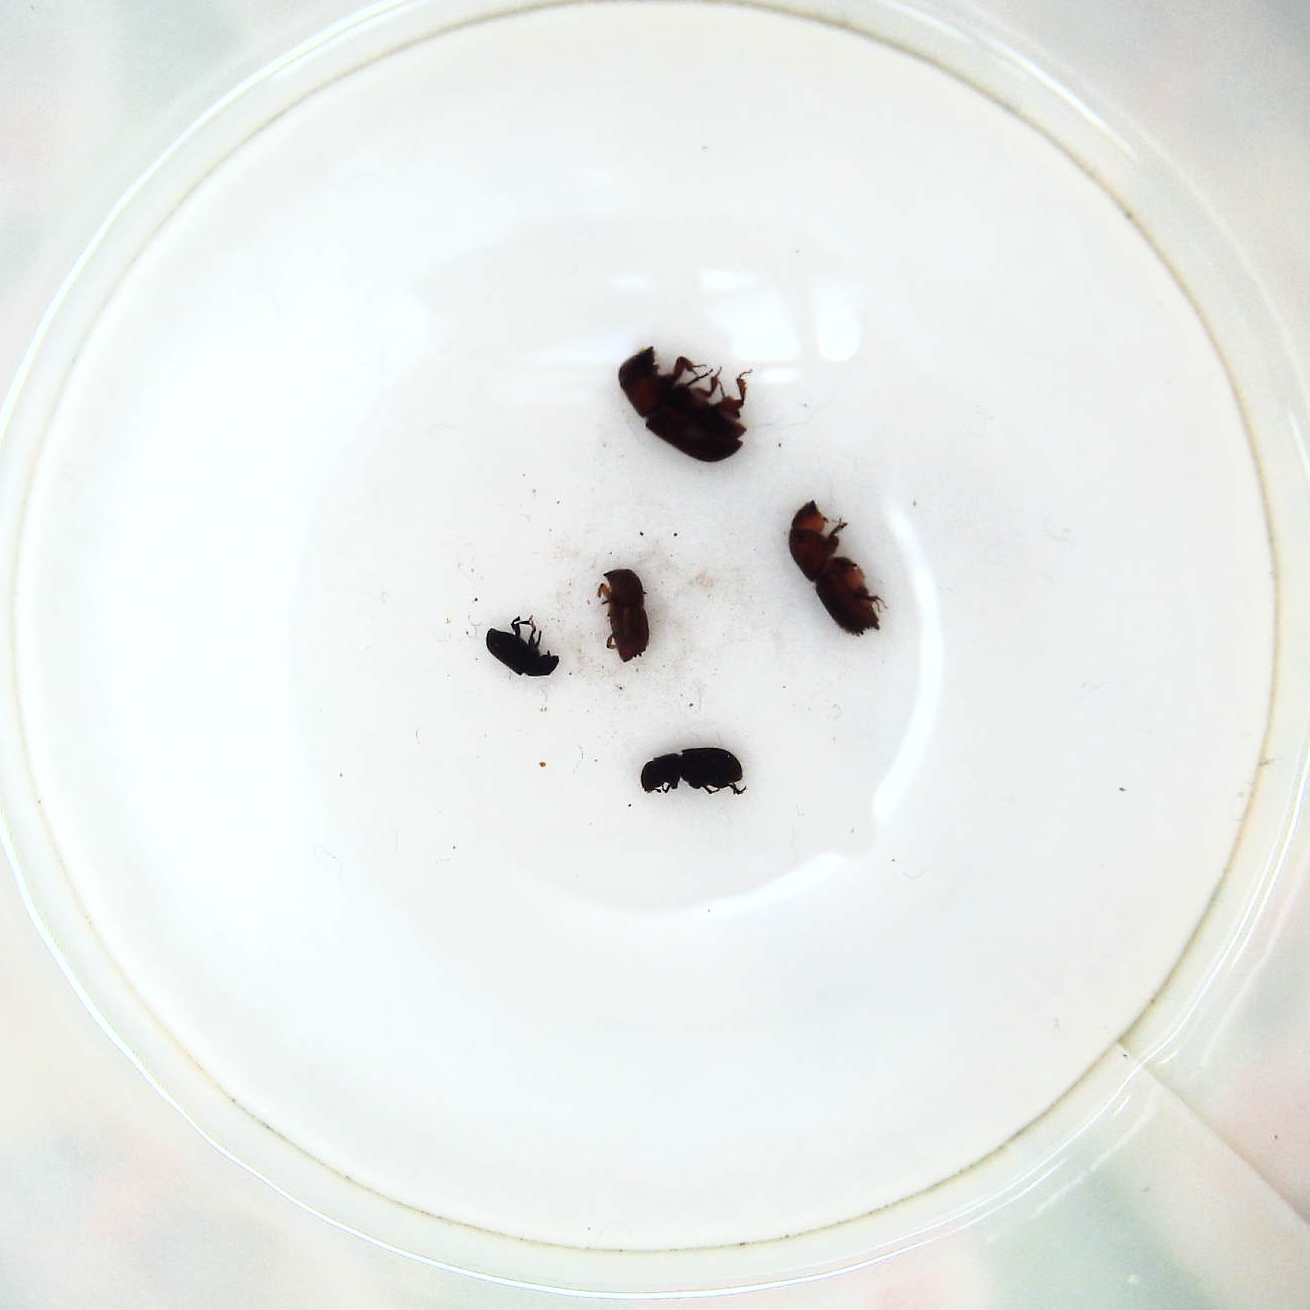Boerner: (785, 501, 888, 639)
Leconte: (615, 349, 755, 468)
armandi: (632, 746, 747, 800)
coleoptera: (479, 612, 559, 685)
linnaeus: (591, 563, 657, 668)
